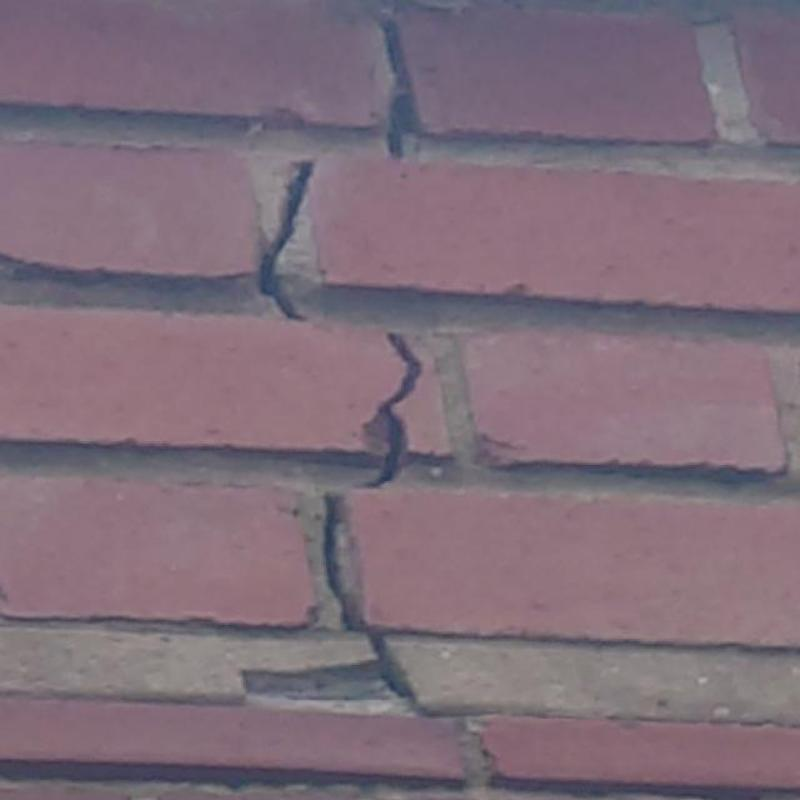pothole: (367, 333, 422, 487), (259, 161, 312, 320), (323, 494, 362, 630), (383, 19, 419, 158), (368, 633, 411, 699)
